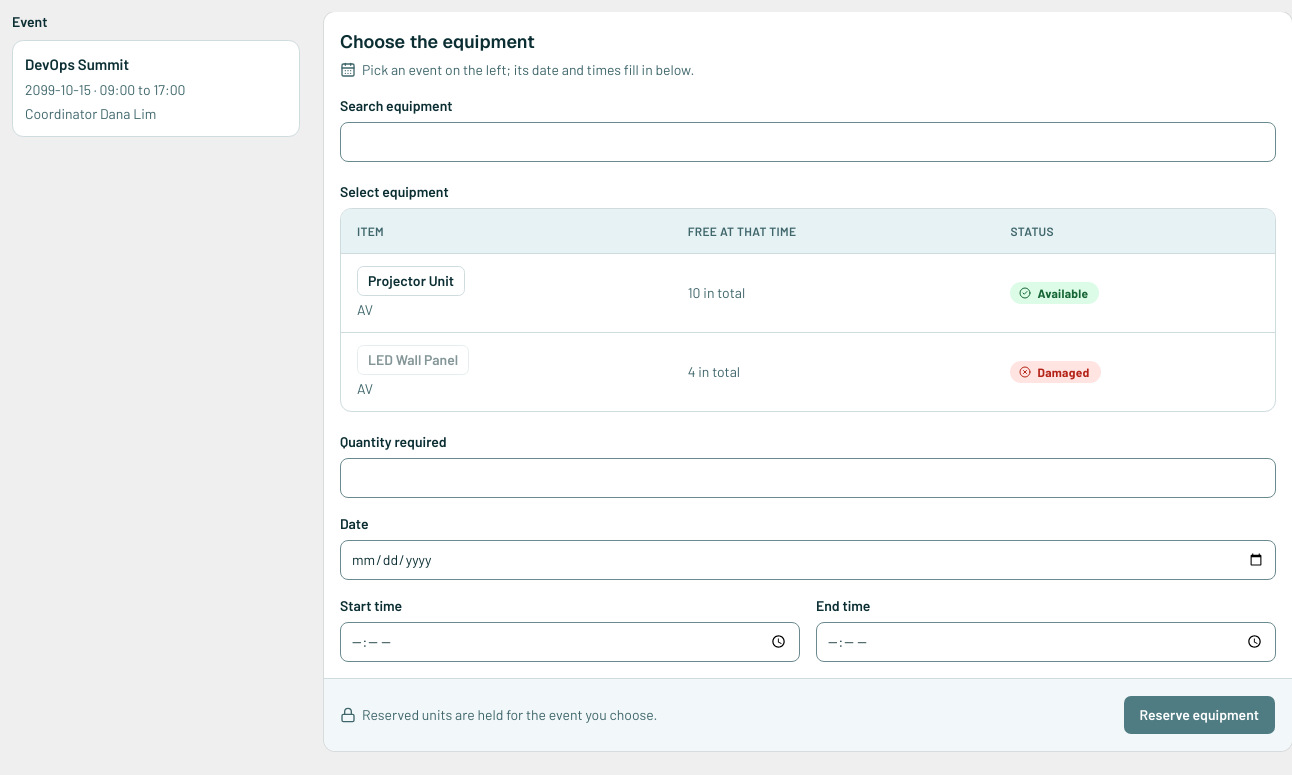
SCRUM-19 equipment reservation form › SCRUM-19/AC7: prompts for the quantity when it is left empty, and does not ask the service
What coordinates should you click on to do the following:
click the button "Projector Unit"
I would click on:
 (411, 280)
Its box is [357,266,465,296].
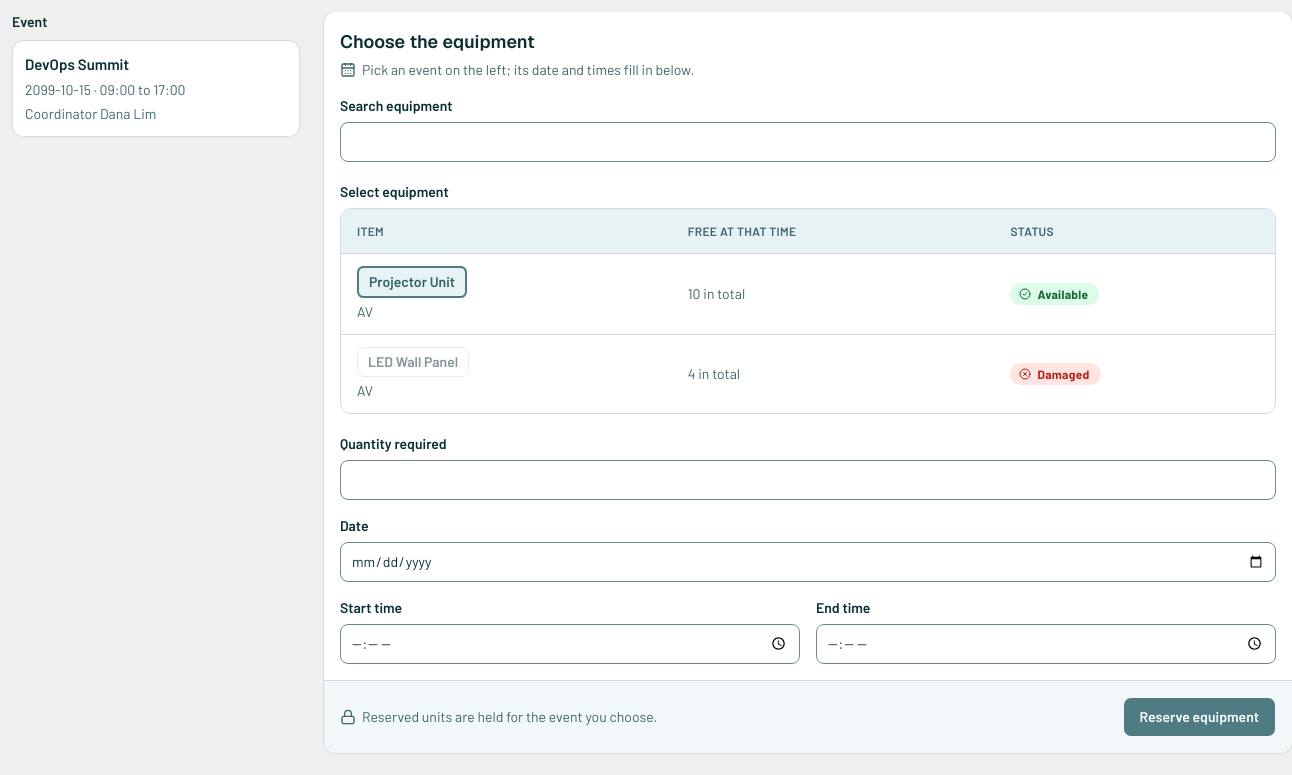
What coordinates should you click on to do the following:
click the button "Reserve equipment"
I would click on:
 (1199, 716)
Its box is [1122,696,1276,736].
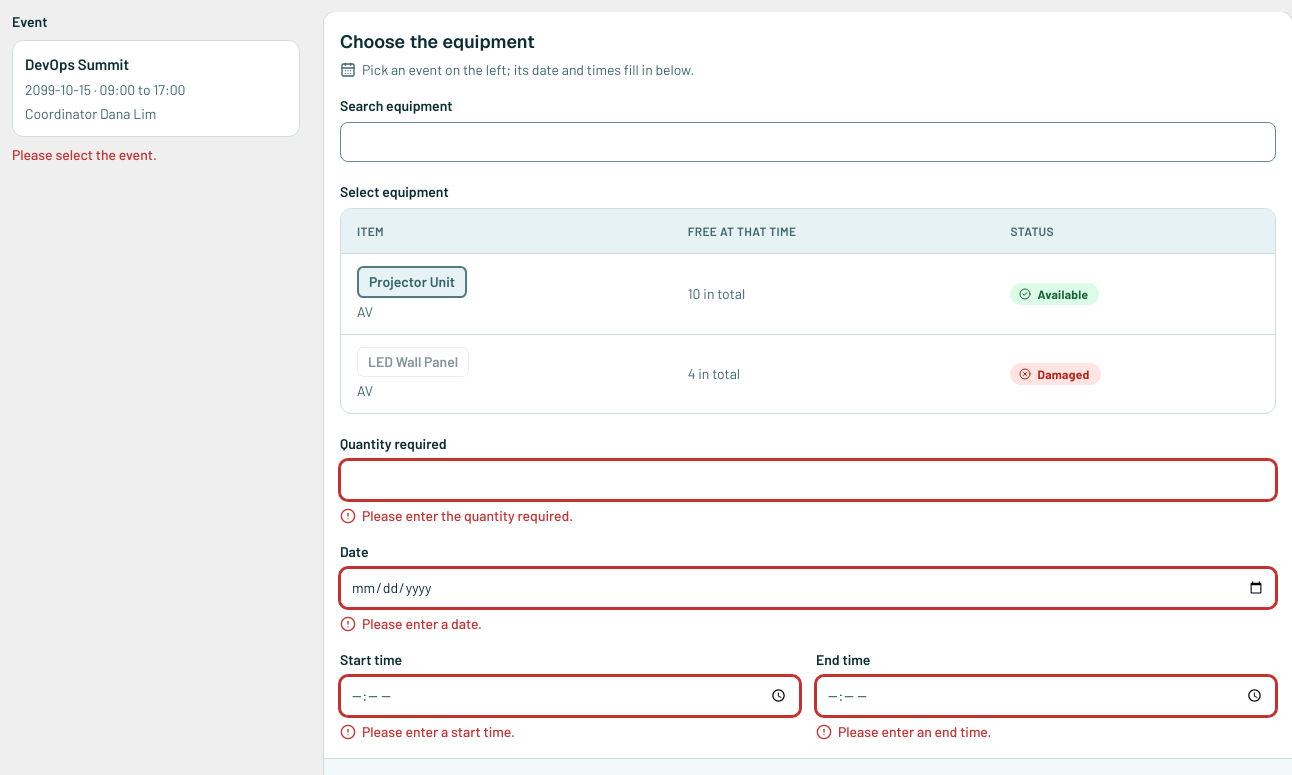
Expected: the text "Please enter the quantity required." is shown, [340,506,573,524]
